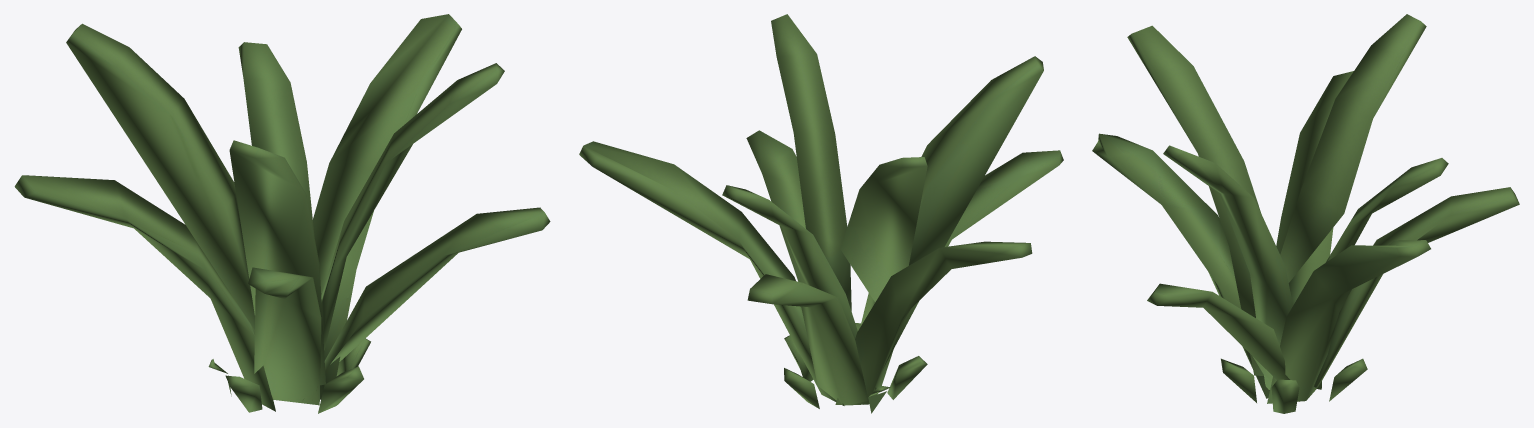
Rendered from weed.glb.
The picture shows the model from 3 angles, left to right: view 1: azimuth 30°, elevation 25°; view 2: azimuth 150°, elevation 25°; view 3: azimuth 270°, elevation 25°; orthographic projection. The views are drawn at different scales.
Size of the model in its own units: 0.959 by 0.6895 by 0.854.
1 material, 1 textured.
